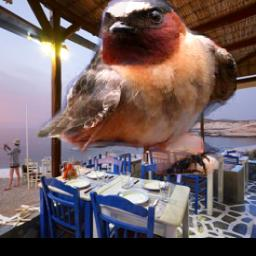Swallow: (38, 0, 238, 174)
